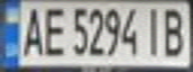2: (84, 5, 106, 57)
4: (121, 4, 145, 56)
5: (66, 3, 90, 57)
9: (103, 4, 124, 56)
A: (18, 2, 45, 57)
B: (160, 3, 190, 59)
E: (39, 2, 69, 57)
I: (139, 5, 169, 57)
